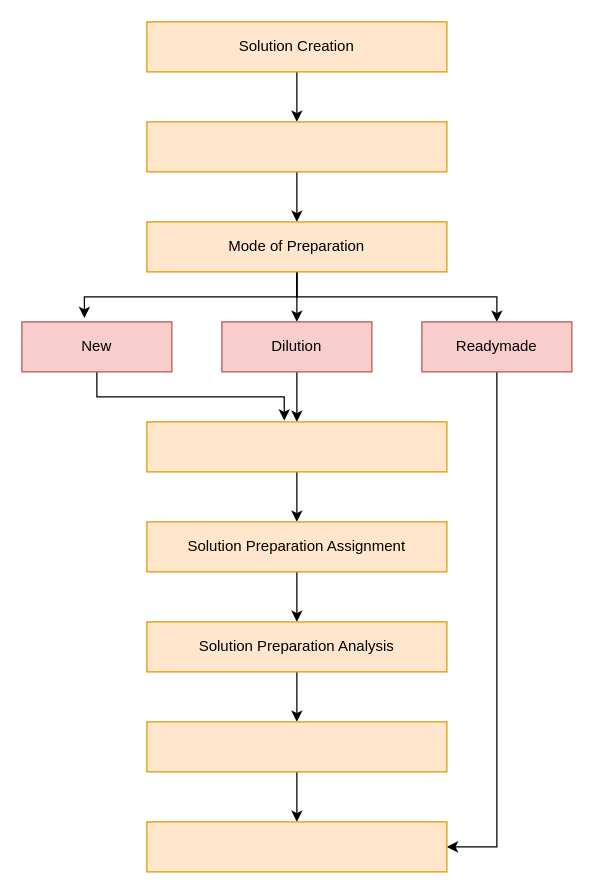
Image size: 594x894. Some labels were removed from this diagram. Here are the shapes that lost their labels. From the top down, the centre of each, then its label:
At point (296, 146): "Solution Preparation".
At point (296, 446): "Solution Preparation Analysis Request".
At point (296, 746): "Solution Preparation Review & Approvals".
At point (296, 846): "Solution Usage".
